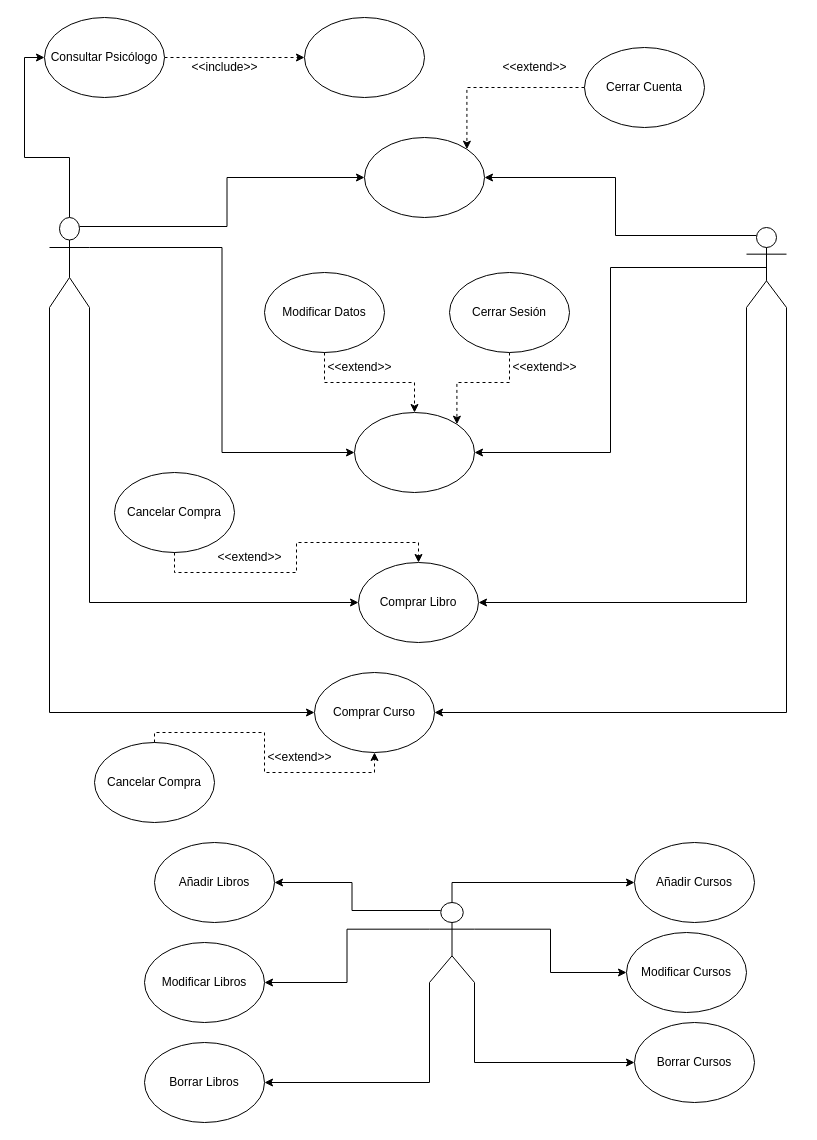
Some shapes in this 817 by 1140 pixel diagram are drawn without their labels. Each missing label, with the centre of its shape:
Administrador: (451,942)
Cliente: (69,262)
Crear Cuenta: (424,177)
Iniciar Sesión: (414,452)
Psicólogo: (766,267)
Valorar Psicólogo: (364,57)
